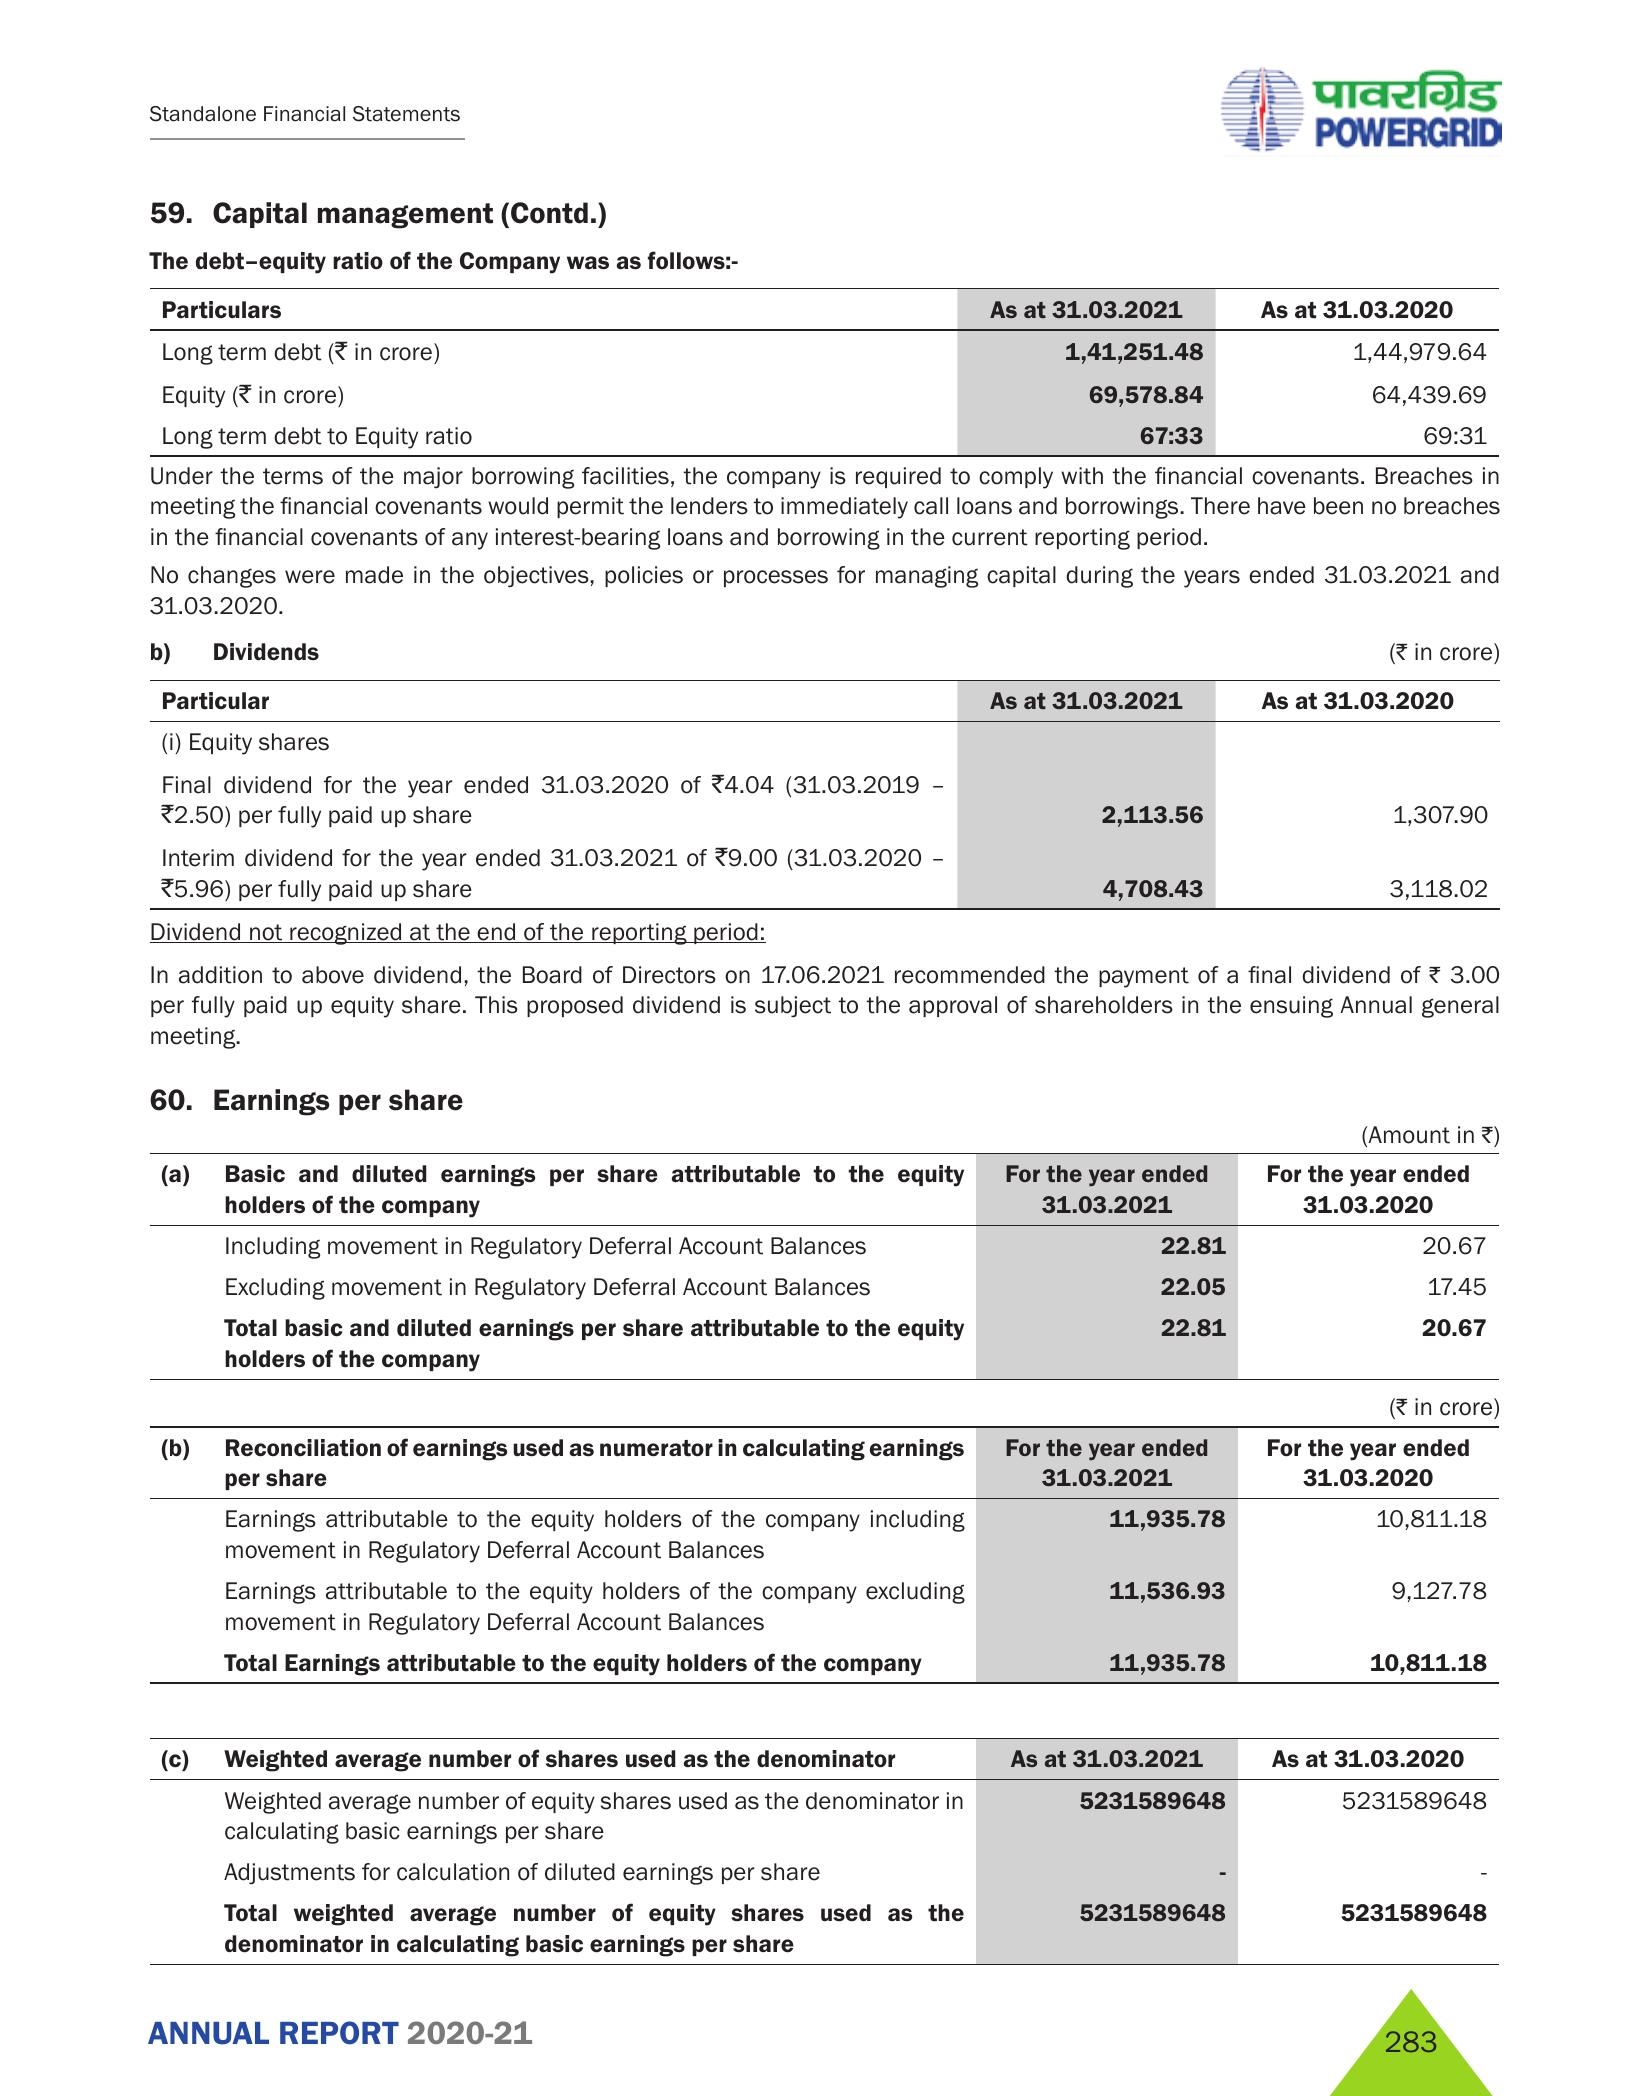Footer: (0, 1968, 1650, 2096)
Header: (0, 0, 1650, 172)
Table: (146, 1426, 1521, 1683), (143, 670, 1516, 907), (146, 1148, 1521, 1376), (143, 1732, 1521, 1956), (146, 282, 1511, 454)
